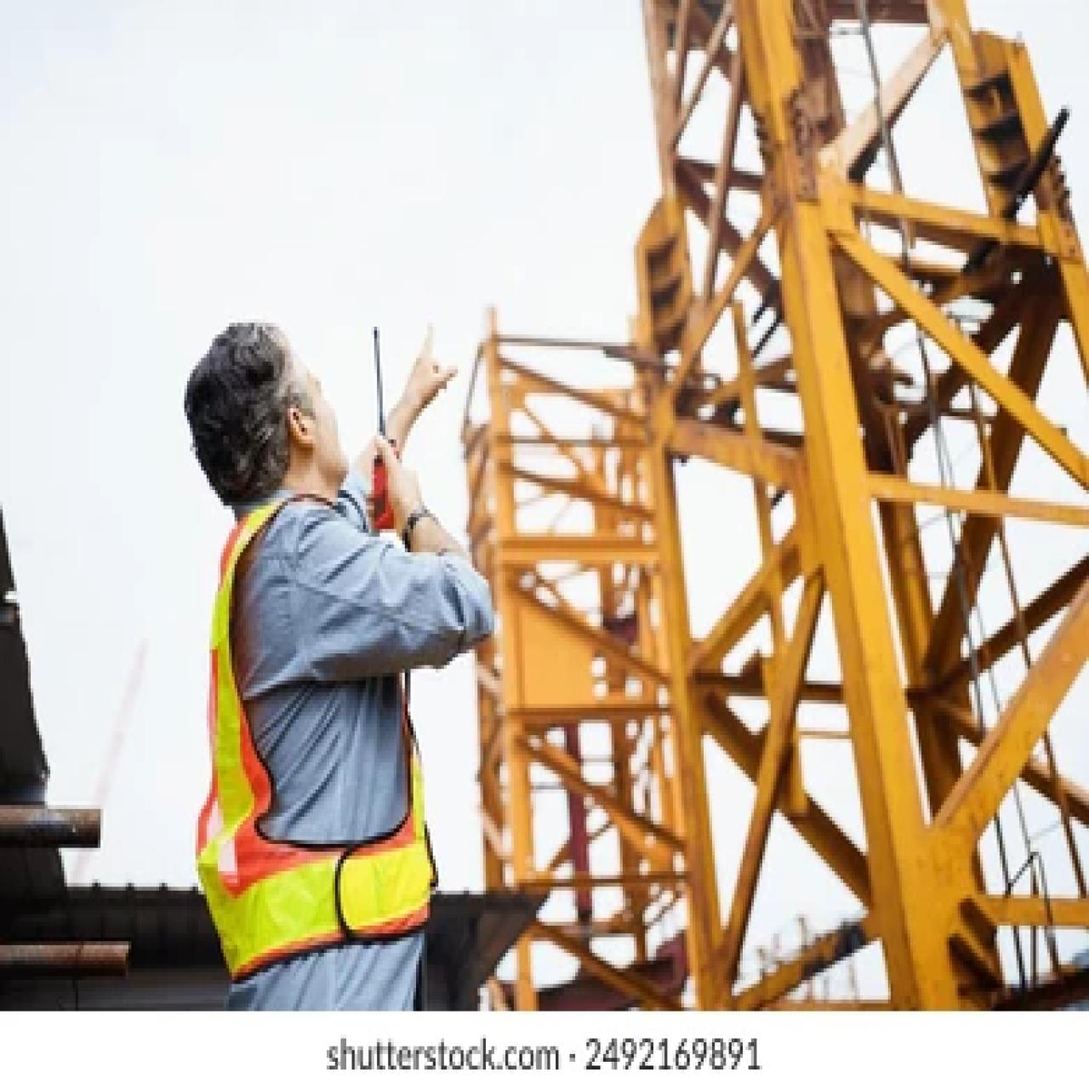Person: (159, 269, 516, 1009)
Safety_Vest: (195, 489, 478, 999)
